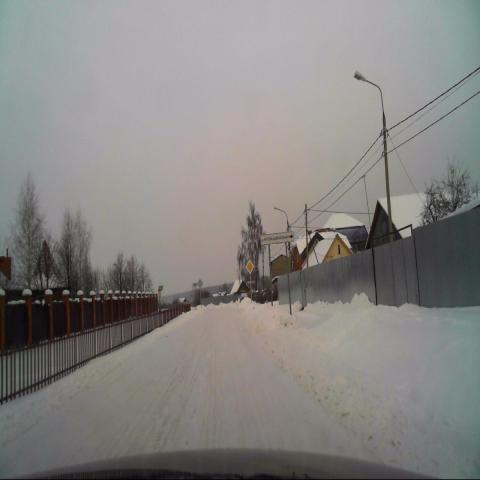2_1: (246, 259, 254, 274)
